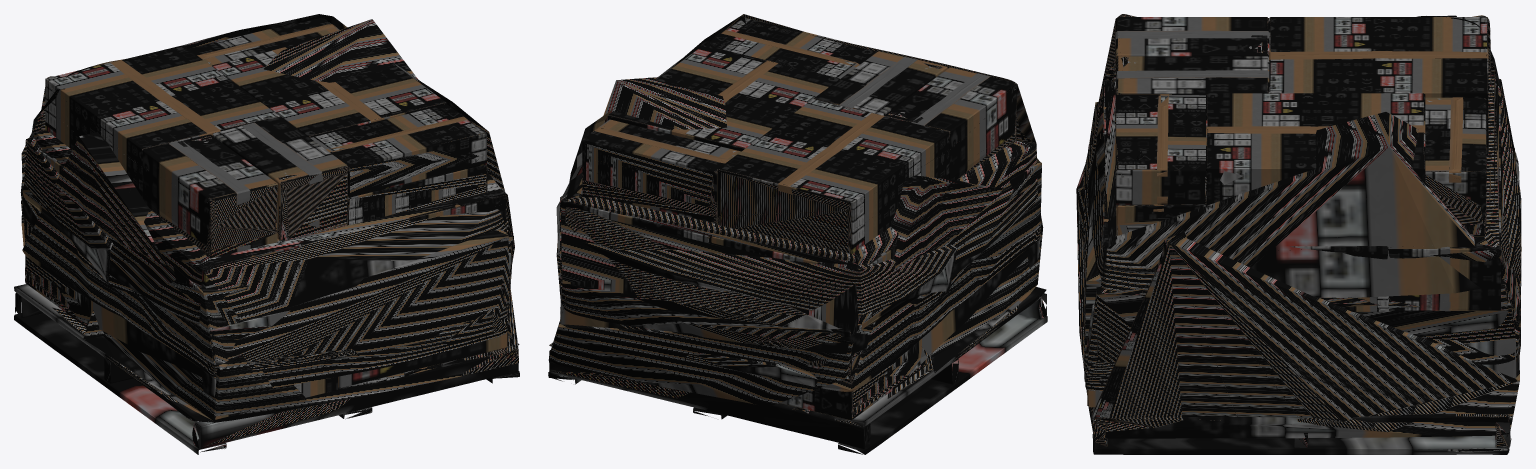
Rendered from pallet_assembly_transparent_a04.glb.
3 views of the same model, side by side, from view 1: azimuth 30°, elevation 25°; view 2: azimuth 150°, elevation 25°; view 3: azimuth 270°, elevation 25° (orthographic). The views are drawn at different scales.
Visible parts, largest first — view 1: geometry_0; view 2: geometry_0; view 3: geometry_0.
Boxes of the visible parts, left/top/right/bottom form: geometry_0: left=14, top=14, right=519, bottom=454; geometry_0: left=548, top=14, right=1047, bottom=454; geometry_0: left=1076, top=14, right=1521, bottom=454.
Size of the model in its own units: 0.403 by 0.3117 by 0.42.
Materials: 1 (1 with a texture image).
